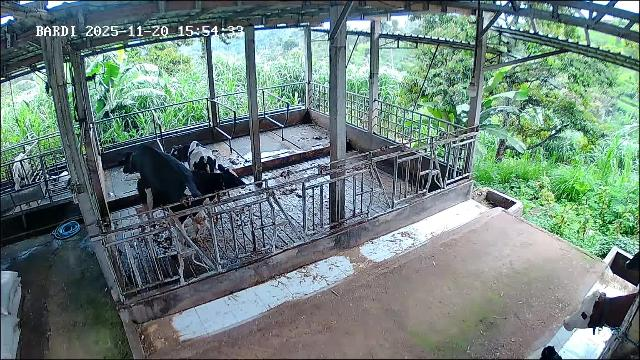mounting: (124, 146, 203, 249)
